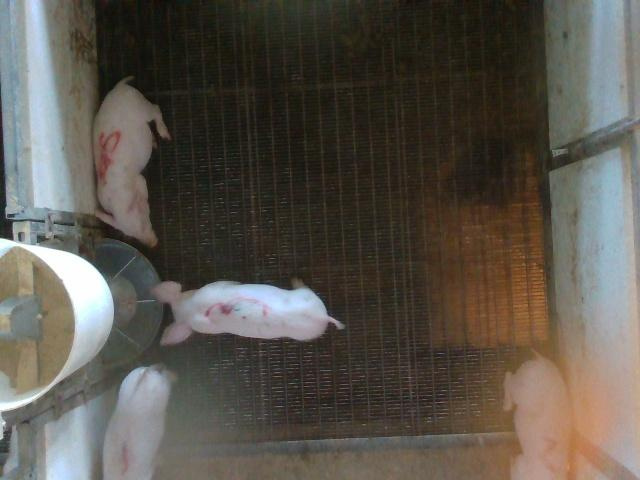pig-1: (504, 352, 571, 478), (102, 365, 176, 479)
pig-3: (154, 279, 344, 345)
pig-5: (94, 76, 171, 246)
